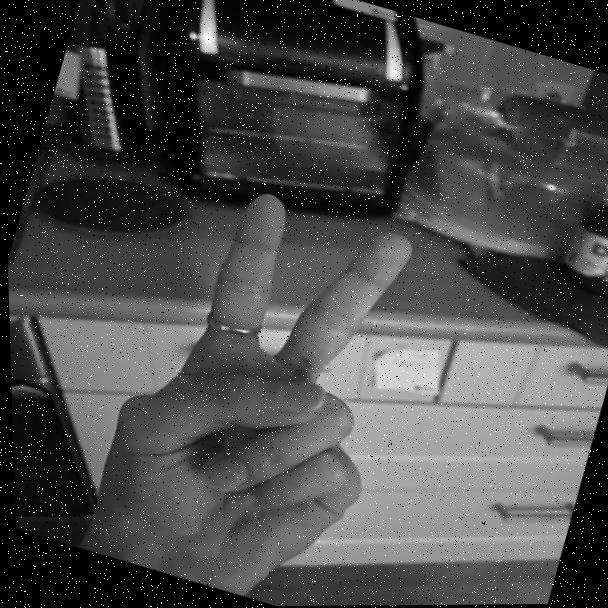two: (67, 159, 445, 601)
